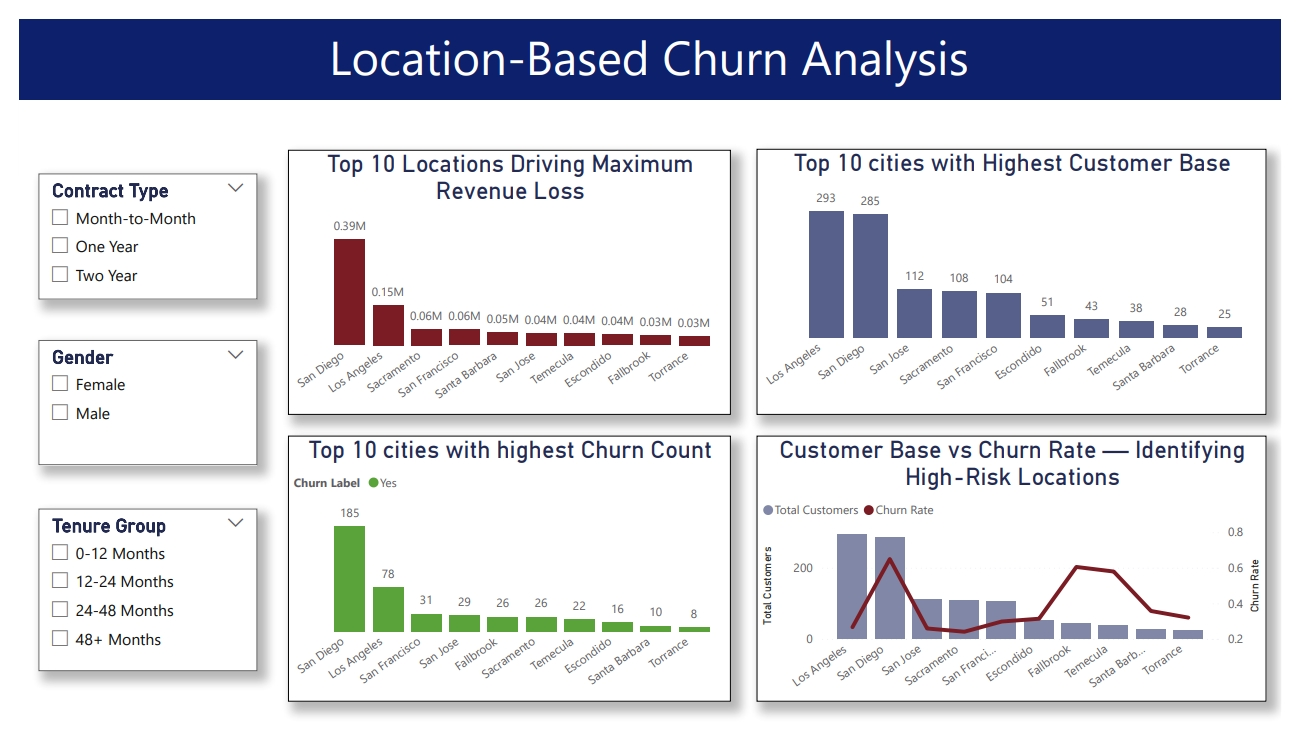

What the dashboard file says about the page in this screenshot:
{"tool":"powerbi","page":{"name":"Location","canvas":[1280,720],"ordinal":3},"visuals":[{"type":"slicer","fields":{"Values":["Dim_Services.Contract"]},"box":[19.7,157.5,222.6,127.2],"z":0},{"type":"slicer","fields":{"Values":["Dim_Demographics.Gender"]},"box":[19.7,325.6,222.6,127.2],"z":1000},{"type":"slicer","fields":{"Values":["Dim_Services.Tenure Group"]},"box":[19.7,496.7,222.6,165],"z":2000},{"type":"clusteredColumnChart","title":"Top 10 Locations Driving Maximum Revenue Loss","fields":{"Category":["Dim_Location.City"],"Y":["Fact_Churn.Revenue At Risk"]},"box":[273.3,133.3,448.3,268.3],"z":3000},{"type":"textbox","box":[0,0,1279,82.1],"z":4000},{"type":"clusteredColumnChart","title":"Top 10 cities with Highest Customer Base","fields":{"Category":["Dim_Location.City"],"Y":["Count(Fact_Churn.Customer ID)"]},"box":[748.3,131.7,516.7,270],"z":5000},{"type":"clusteredColumnChart","title":"Top 10 cities with highest Churn Count","fields":{"Category":["Dim_Location.City"],"Y":["CountNonNull(Fact_Churn.Customer ID)"],"Series":["Fact_Churn.Churn Label"]},"box":[273.3,423.3,448.3,270],"z":6000},{"type":"lineClusteredColumnComboChart","title":"Customer Base vs Churn Rate — Identifying High-Risk Locations","fields":{"Category":["Dim_Location.City"],"Y":["CountNonNull(Fact_Churn.Customer ID)"],"Y2":["Fact_Churn.Churn Rate"]},"box":[748.3,423.3,516.7,270],"z":7000}]}

Visuals, with their boxes in screenshot pixels (x1, y1, x2, y2), scaled from the page's 1280x720 canvas onto the 1297x748 screenshot:
slicer - Dim_Services.Contract: bbox=(20, 164, 246, 296)
slicer - Dim_Demographics.Gender: bbox=(20, 338, 246, 470)
slicer - Dim_Services.Tenure Group: bbox=(20, 516, 246, 687)
"Top 10 Locations Driving Maximum Revenue Loss" clusteredColumnChart: bbox=(277, 138, 731, 417)
textbox: bbox=(0, 0, 1296, 85)
"Top 10 cities with Highest Customer Base" clusteredColumnChart: bbox=(758, 137, 1282, 417)
"Top 10 cities with highest Churn Count" clusteredColumnChart: bbox=(277, 440, 731, 720)
"Customer Base vs Churn Rate — Identifying High-Risk Locations" lineClusteredColumnComboChart: bbox=(758, 440, 1282, 720)
